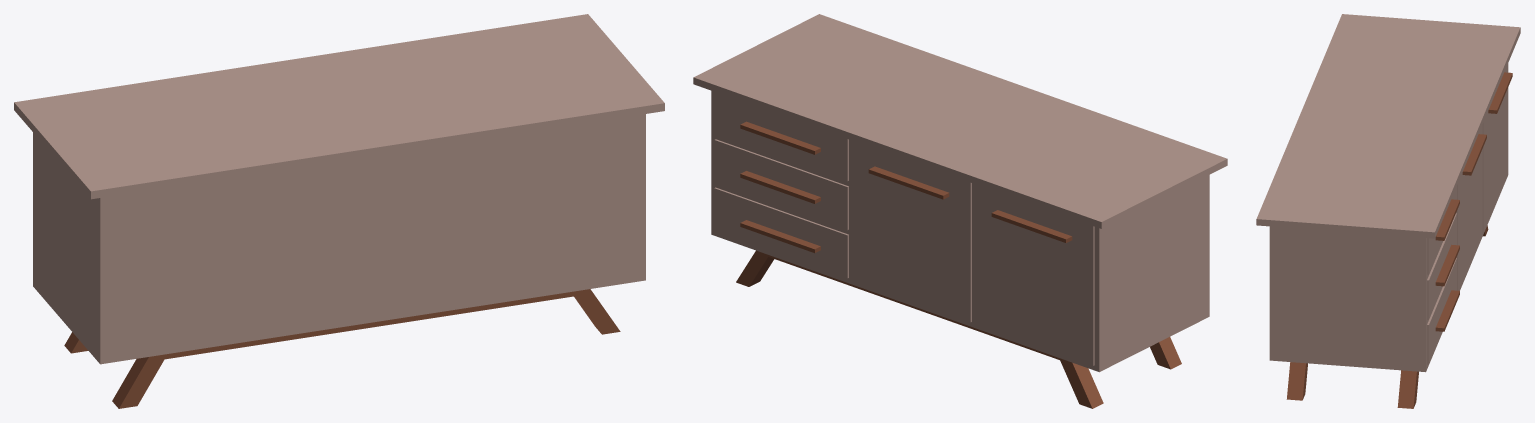
The model's file is dvn5SGMpjPm.glb.
3 views of the same model, side by side, from view 1: azimuth 30°, elevation 25°; view 2: azimuth 150°, elevation 25°; view 3: azimuth 270°, elevation 25° (orthographic). The views are drawn at different scales.
Parts seen in each view (by area): view 1: Box001, Box002; view 2: Box001, Box002; view 3: Box001, Box002.
Part boxes in pixels (x1,y1,x2,y2): Box001: (14, 14, 664, 364); Box002: (64, 289, 620, 408); Box001: (693, 14, 1227, 372); Box002: (736, 121, 1181, 408); Box001: (1256, 14, 1520, 372); Box002: (1286, 72, 1512, 408).
Size of the model in its own units: 2.46 by 1 by 1.26.
